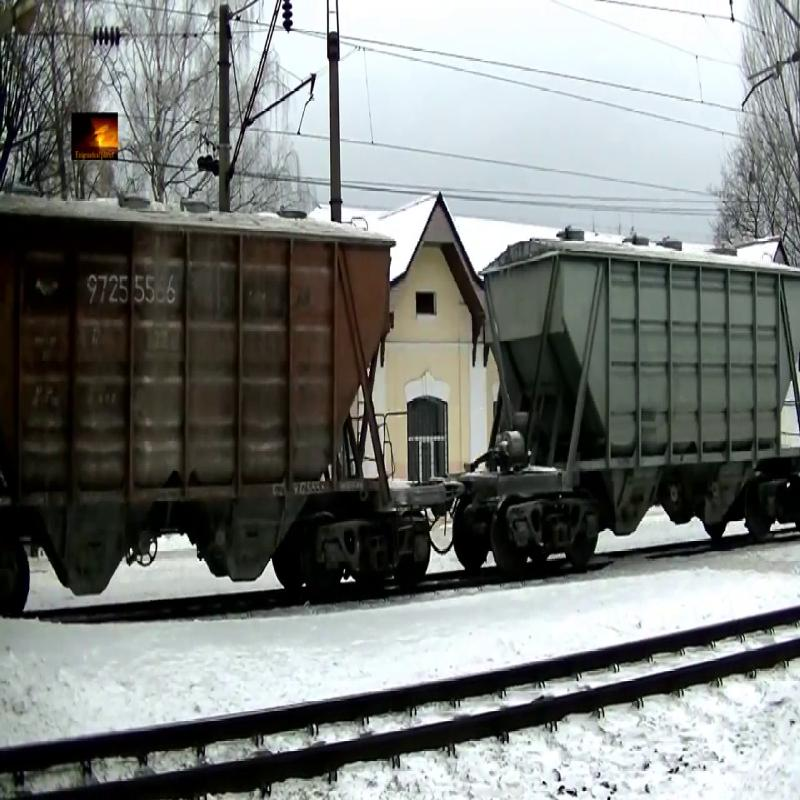train: (7, 200, 405, 611), (460, 235, 797, 566)
